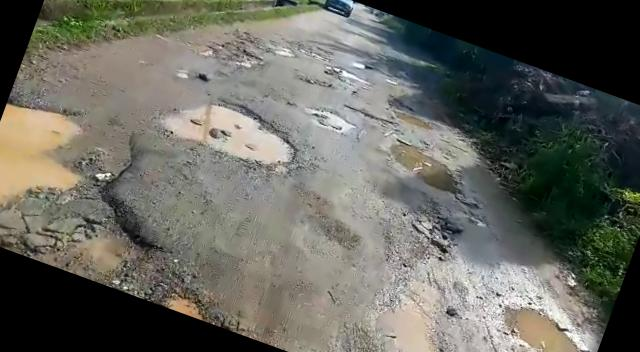pothole: (0, 89, 190, 297), (149, 78, 313, 183), (486, 293, 601, 352), (379, 138, 477, 204), (197, 29, 269, 78), (340, 101, 407, 132), (306, 103, 354, 136), (322, 60, 372, 88), (388, 105, 434, 134)
